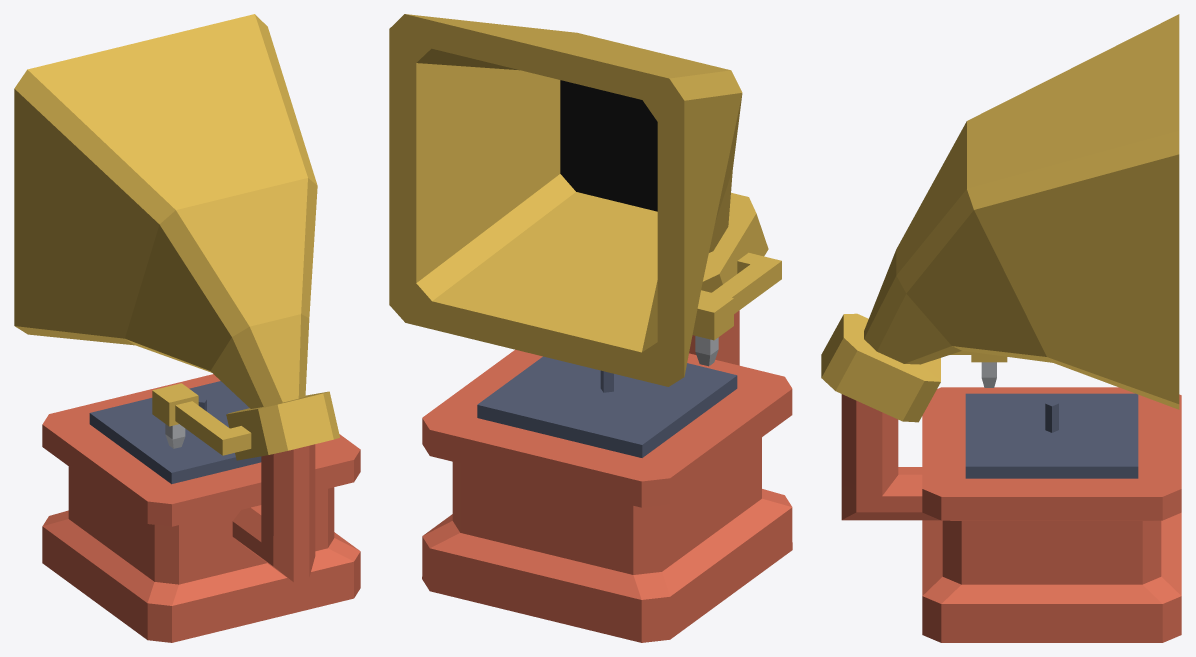
Rendered from recordPlayer.glb.
3 renders of one model, left to right at view 1: azimuth 30°, elevation 25°; view 2: azimuth 150°, elevation 25°; view 3: azimuth 270°, elevation 25°, orthographic. The views are drawn at different scales.
Parts seen in each view (by area): view 1: recordPlayer; view 2: recordPlayer; view 3: recordPlayer.
Boxes of the visible parts, left/top/right/bottom form: recordPlayer: left=14, top=14, right=360, bottom=642; recordPlayer: left=389, top=14, right=792, bottom=642; recordPlayer: left=821, top=14, right=1181, bottom=642.
Size of the model in its own units: 0.5948 by 1.1 by 0.695.
1 material, 1 textured.
